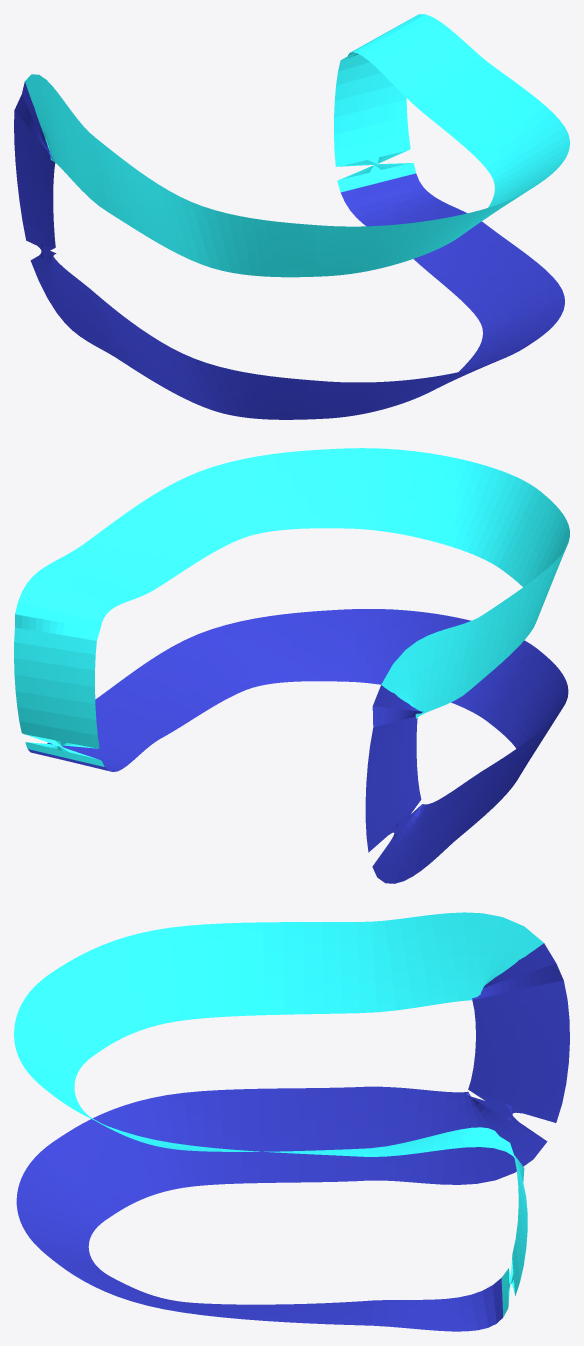
Rendered from mobius-u-operator.glb.
The picture shows the model from 3 angles, top to bottom: view 1: azimuth 30°, elevation 25°; view 2: azimuth 150°, elevation 25°; view 3: azimuth 270°, elevation 25°; orthographic projection. The views are drawn at different scales.
Parts seen in each view (by area): view 1: MobiusBody_StaticU; view 2: MobiusBody_StaticU; view 3: MobiusBody_StaticU.
Boxes of the visible parts, bbox=[...] form: MobiusBody_StaticU: bbox=[14, 14, 569, 419]; MobiusBody_StaticU: bbox=[14, 448, 569, 883]; MobiusBody_StaticU: bbox=[14, 912, 569, 1331].
Size of the model in its own units: 3.56 by 2.1 by 4.01.
